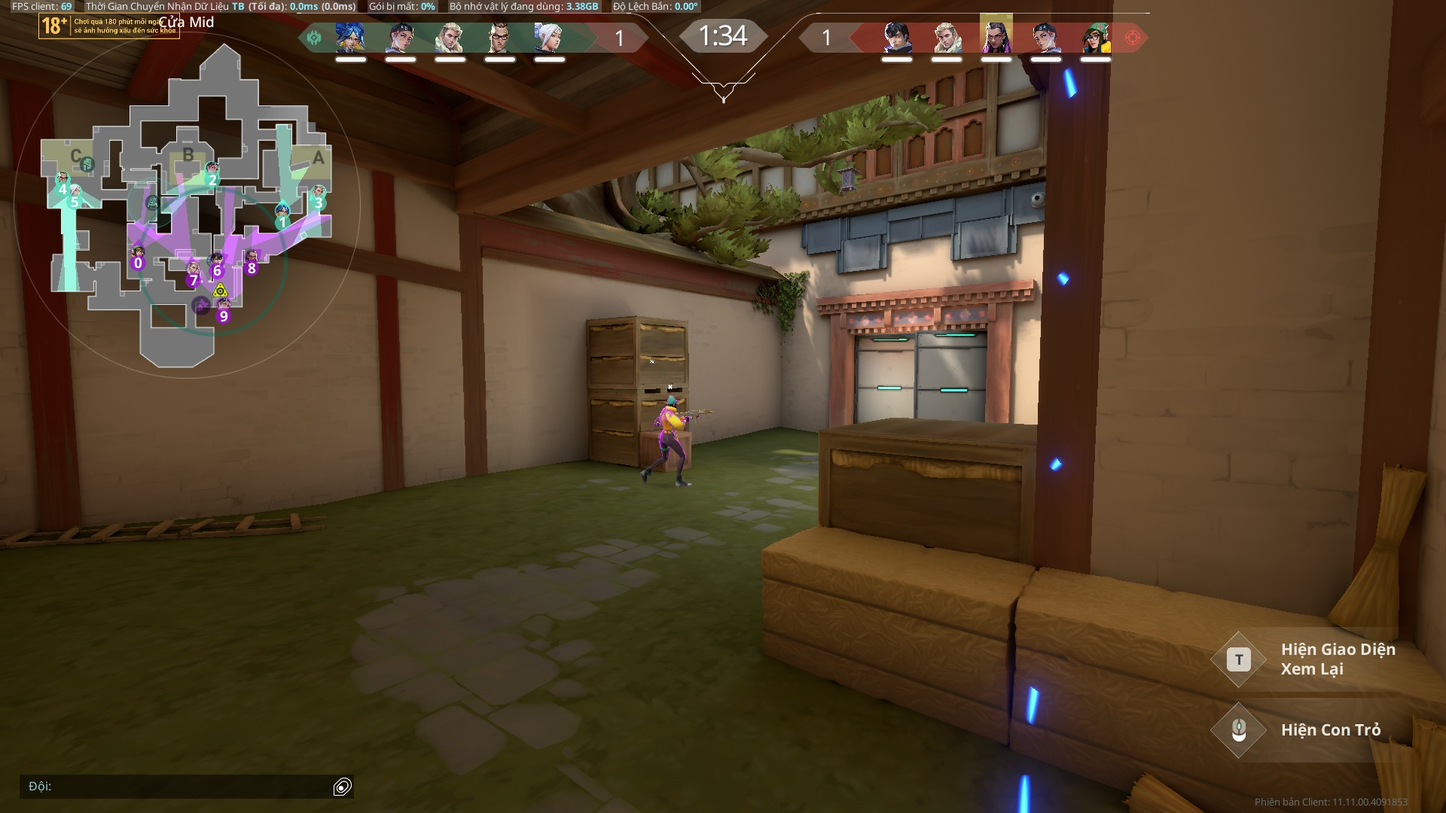body: (659, 406, 679, 429)
head: (666, 398, 678, 410)
